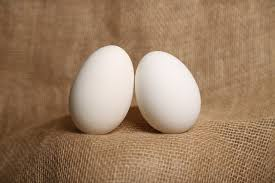eggs: (137, 52, 203, 135), (79, 52, 131, 132)
